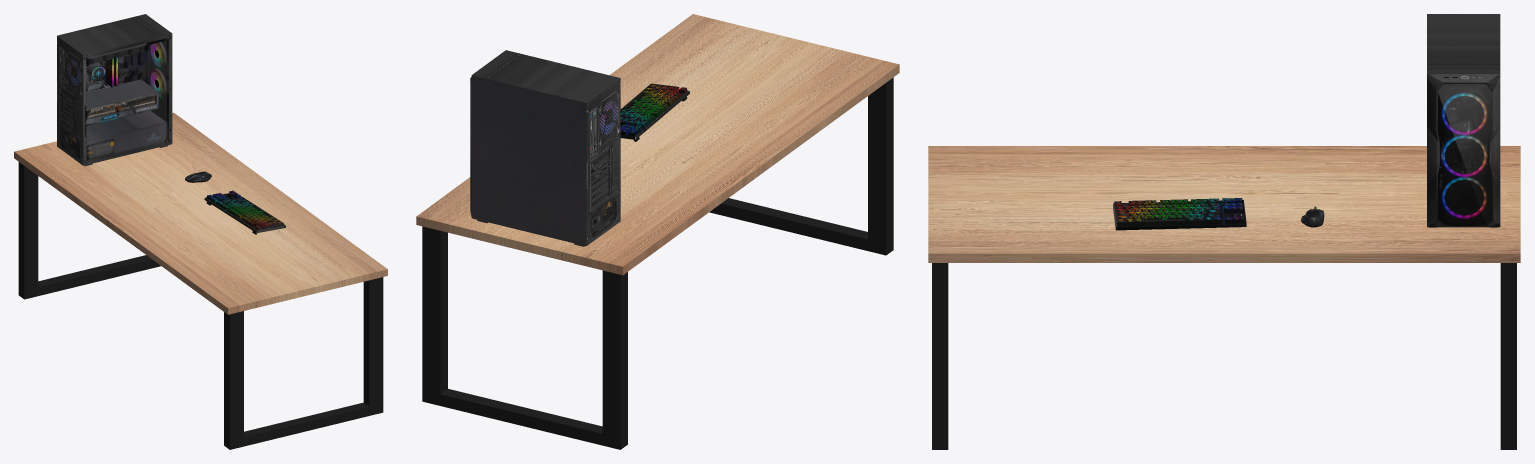
Rendered from gaming_setup.fbx.
3 renders of one model, left to right at view 1: azimuth 30°, elevation 25°; view 2: azimuth 150°, elevation 25°; view 3: azimuth 270°, elevation 25°, orthographic. The views are drawn at different scales.
Parts seen in each view (by area): view 1: desk, Plane_Plane.001, Plane; view 2: desk, Plane_Plane.001, Plane; view 3: desk, Plane_Plane.001, Plane.
Boxes of the visible parts, x1,y1,x2,y2 form: desk: (14, 112, 387, 449); Plane_Plane.001: (57, 14, 172, 166); Plane: (204, 190, 285, 234); desk: (416, 14, 899, 449); Plane_Plane.001: (470, 50, 620, 246); Plane: (620, 83, 690, 141); desk: (928, 146, 1520, 449); Plane_Plane.001: (1427, 14, 1500, 227); Plane: (1113, 198, 1246, 230).
Bounding box in the file's own units: 302 × 462 × 700.
Materials: 8 (7 with a texture image).
